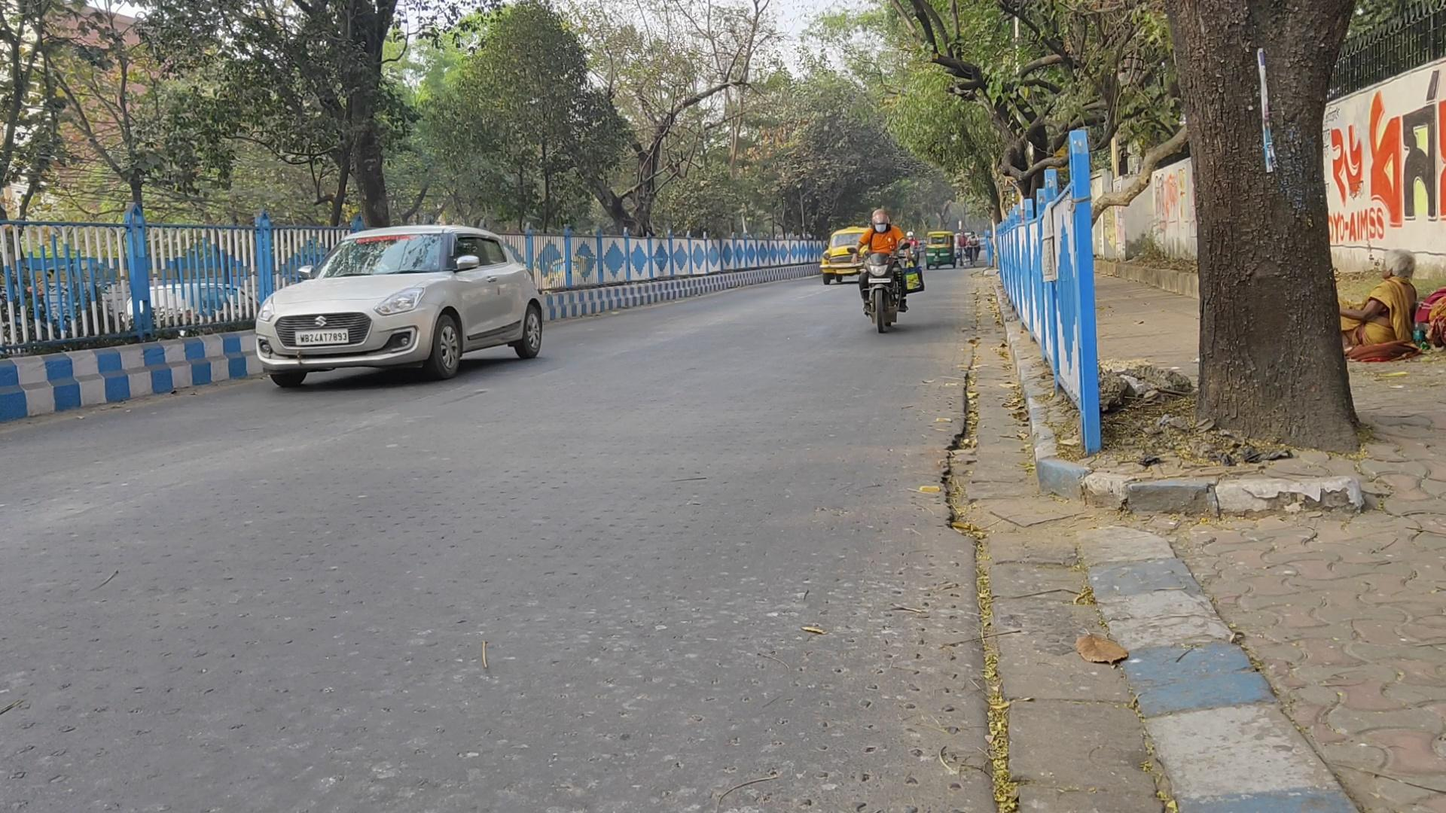Auto: (925, 229, 957, 270)
bike: (847, 206, 917, 335), (969, 230, 981, 269)
car: (255, 223, 545, 389), (821, 224, 879, 288)
